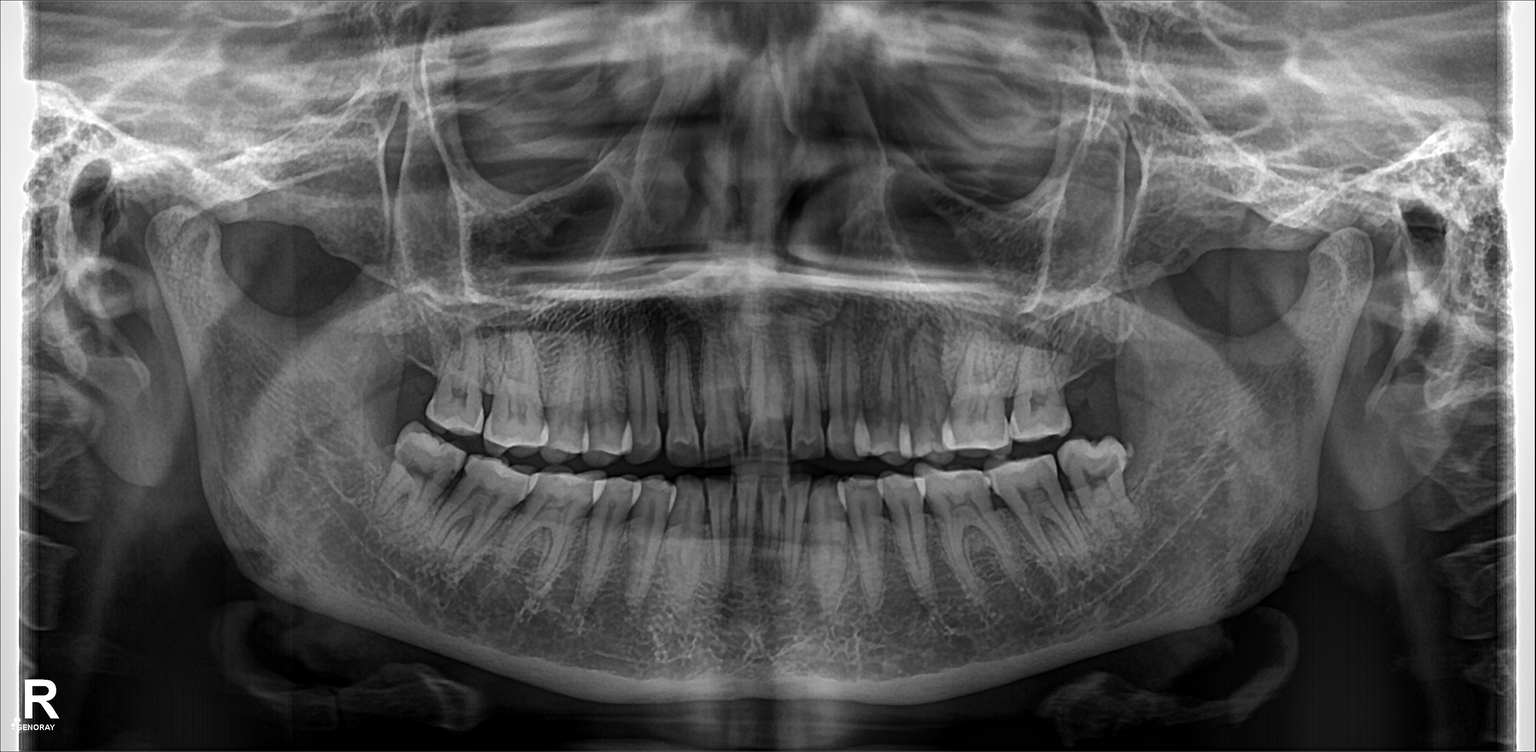Missing Tooth: (1058, 331, 1123, 432), (385, 344, 429, 419)
